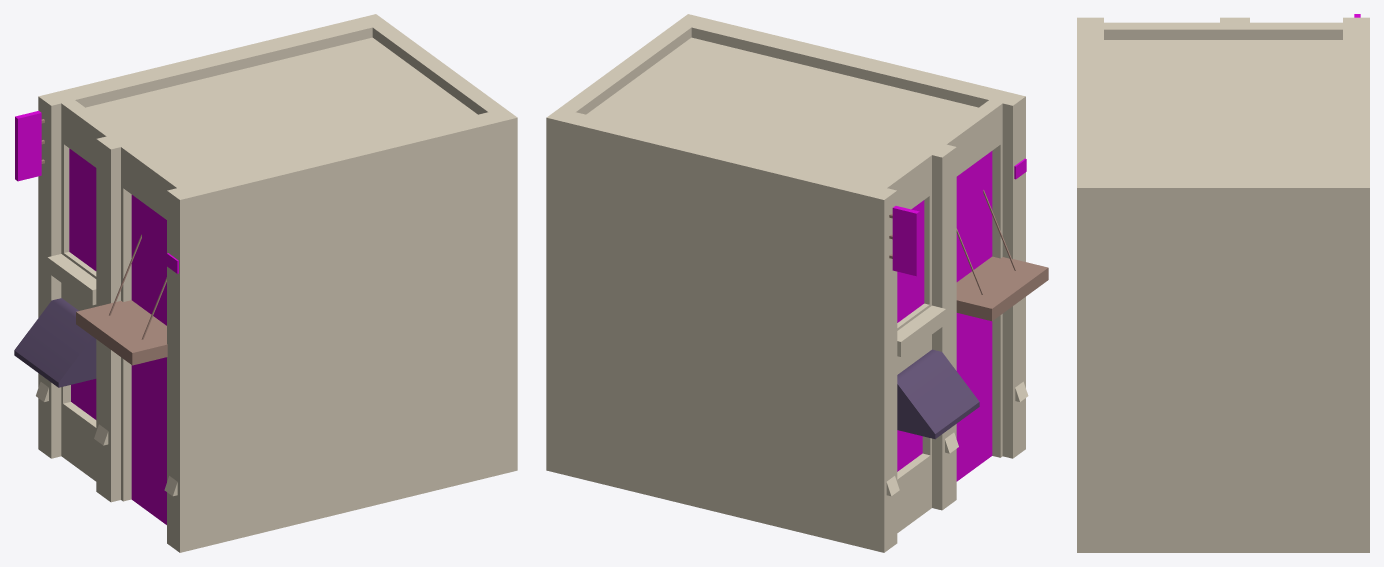
File: Mall_2.fbx
3 renders of one model, left to right at view 1: azimuth 30°, elevation 25°; view 2: azimuth 150°, elevation 25°; view 3: azimuth 270°, elevation 25°, orthographic. The views are drawn at different scales.
Parts seen in each view (by area): view 1: Mall; view 2: Mall; view 3: Mall.
Boxes of the visible parts, x1,y1,x2,y2 form: Mall: [14, 14, 517, 552]; Mall: [546, 14, 1048, 552]; Mall: [1077, 14, 1369, 552].
Bounding box in the file's own units: 0.843 × 0.7573 × 0.5509.
